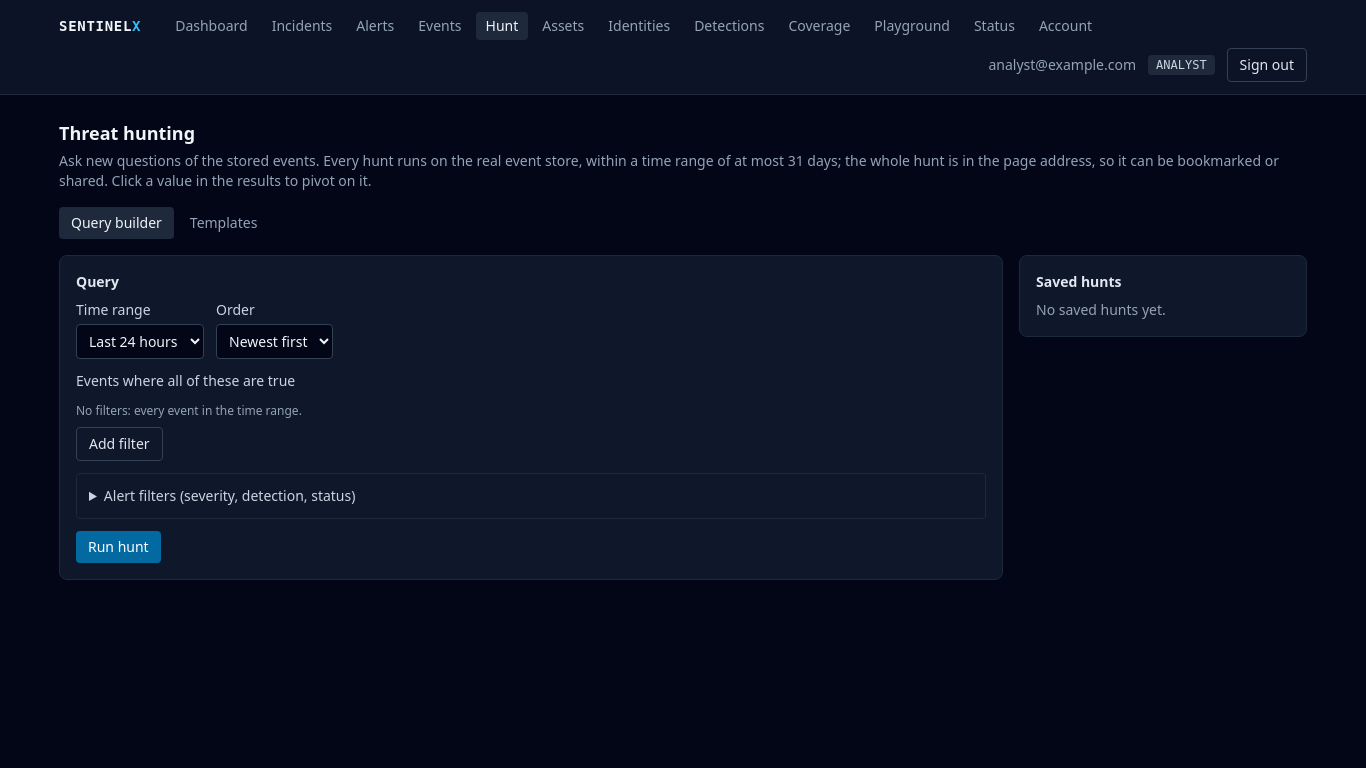
Hunt builder values (Phase 14) › maps every kind of server validation message to the part of the form it is about
Click the button "Run hunt" at {"x": 118, "y": 547}, box [76,531,161,563]
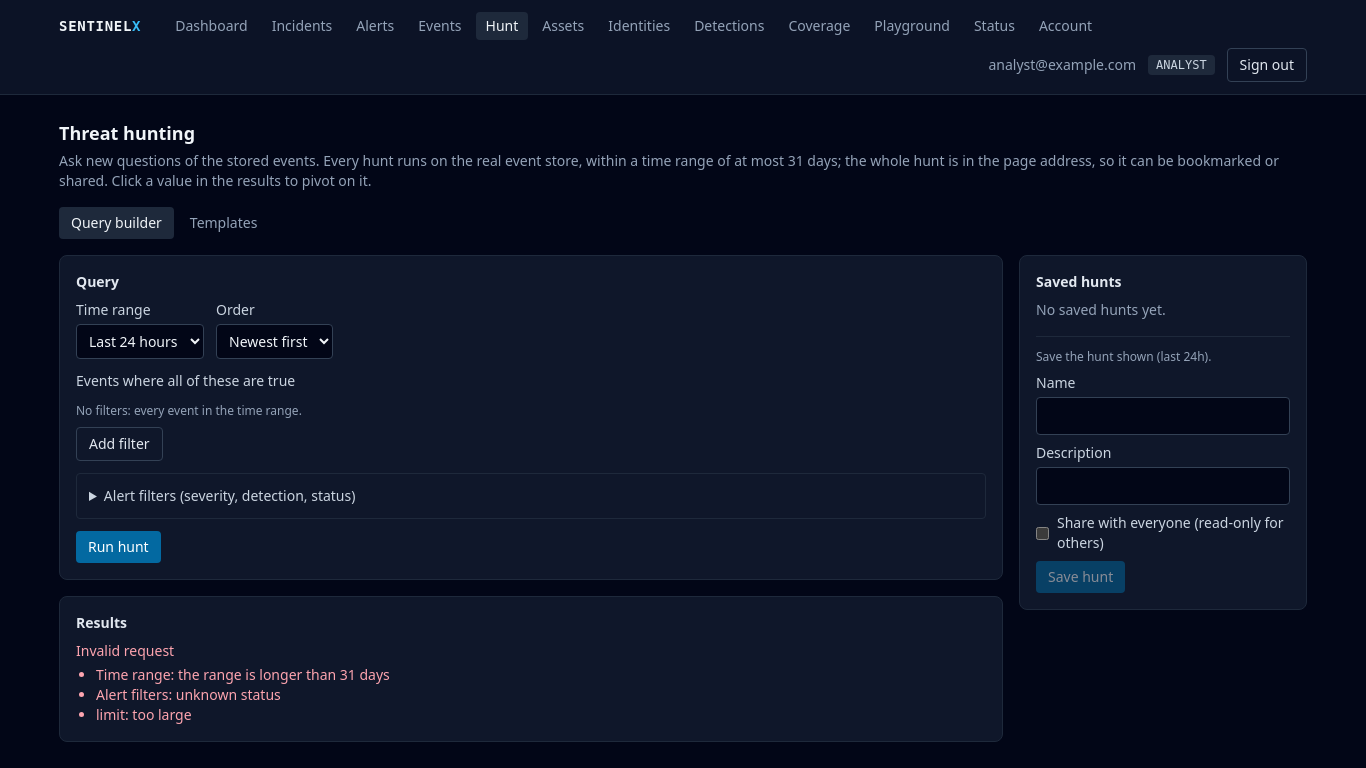
Check: the message shows "Time range: the range is longer than 31 days", box [96,665,390,684]
Check: the message shows "Alert filters: unknown status", box [96,685,281,704]
Check: the message shows "limit: too large", box [96,705,192,724]
